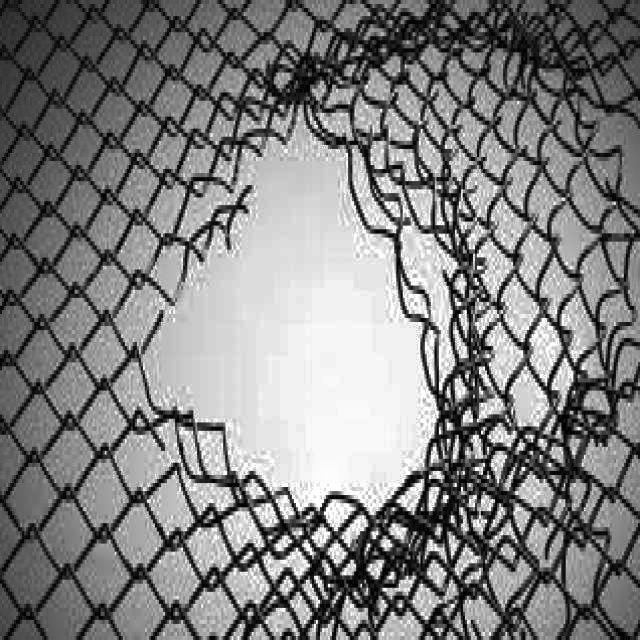anomaly-fence: (129, 29, 640, 572)
